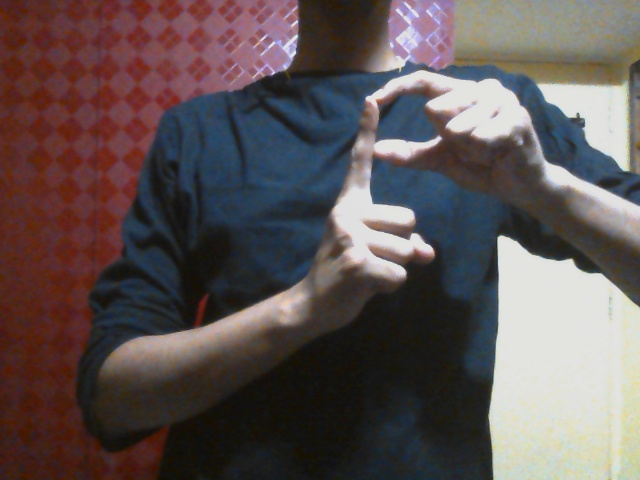P: (308, 68, 496, 328)
